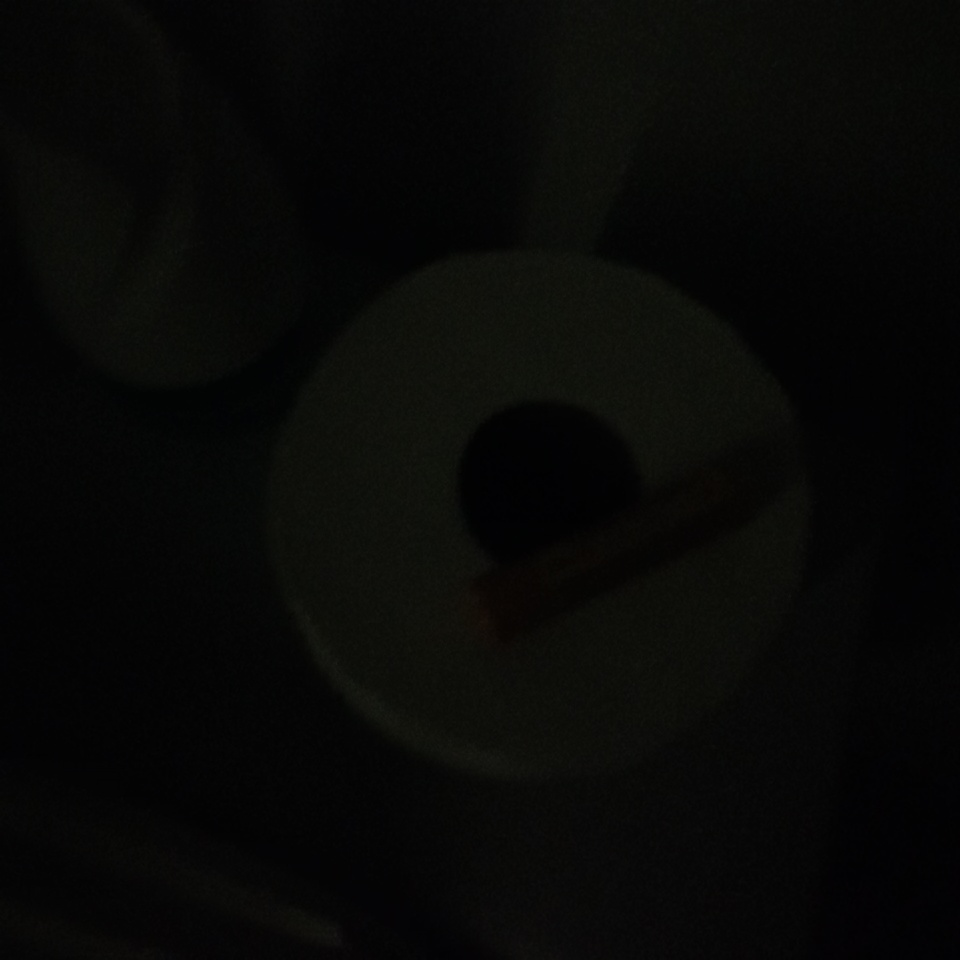chapstick: (465, 458, 764, 650)
